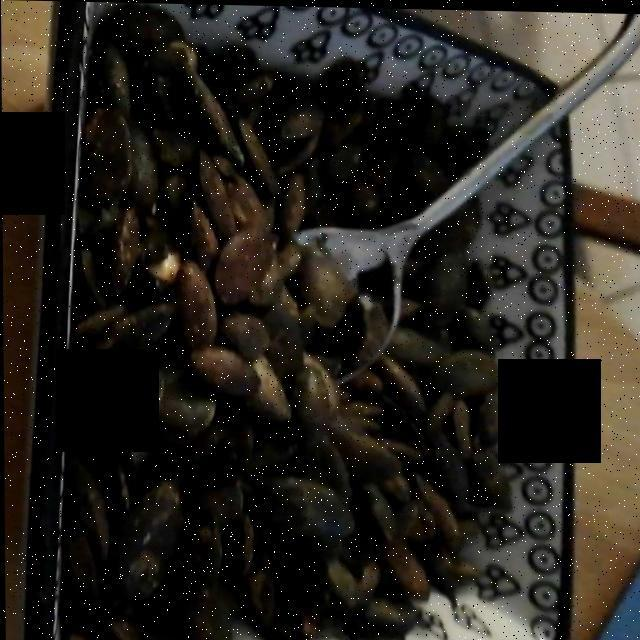pumpkin-seeds: (46, 30, 514, 634)
